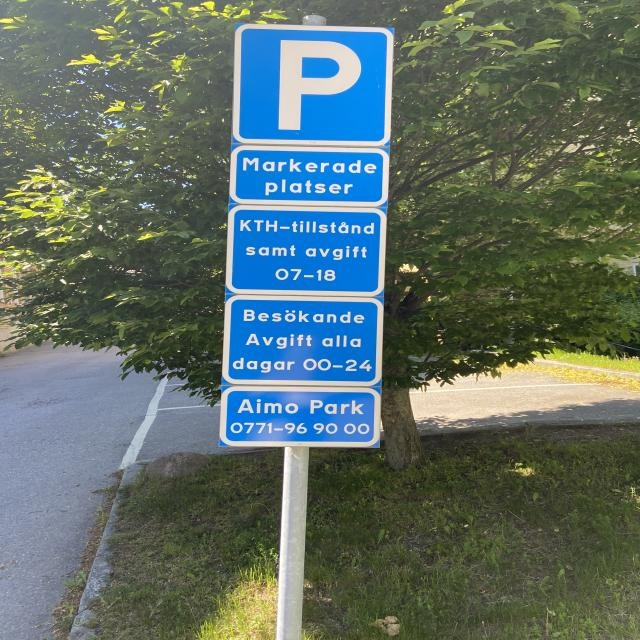P-skylt: (234, 21, 395, 146)
